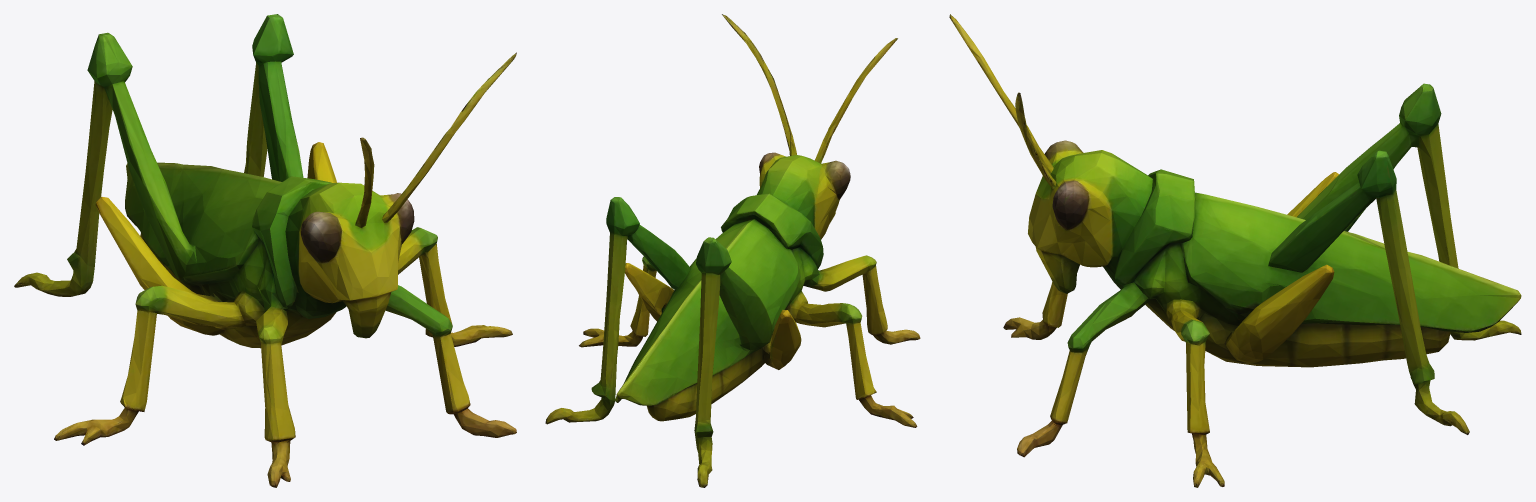
Rendered from grasshopper.glb.
3 renders of one model, left to right at view 1: azimuth 30°, elevation 25°; view 2: azimuth 150°, elevation 25°; view 3: azimuth 270°, elevation 25°, orthographic. The views are drawn at different scales.
Visible parts, largest first — view 1: world; view 2: world; view 3: world.
Part boxes in pixels (x1,y1,x2,y2): world: [14, 14, 516, 487]; world: [545, 14, 920, 487]; world: [949, 14, 1521, 487].
Size of the model in its own units: 0.8556 by 0.7022 by 0.9977.
1 material, 1 textured.
